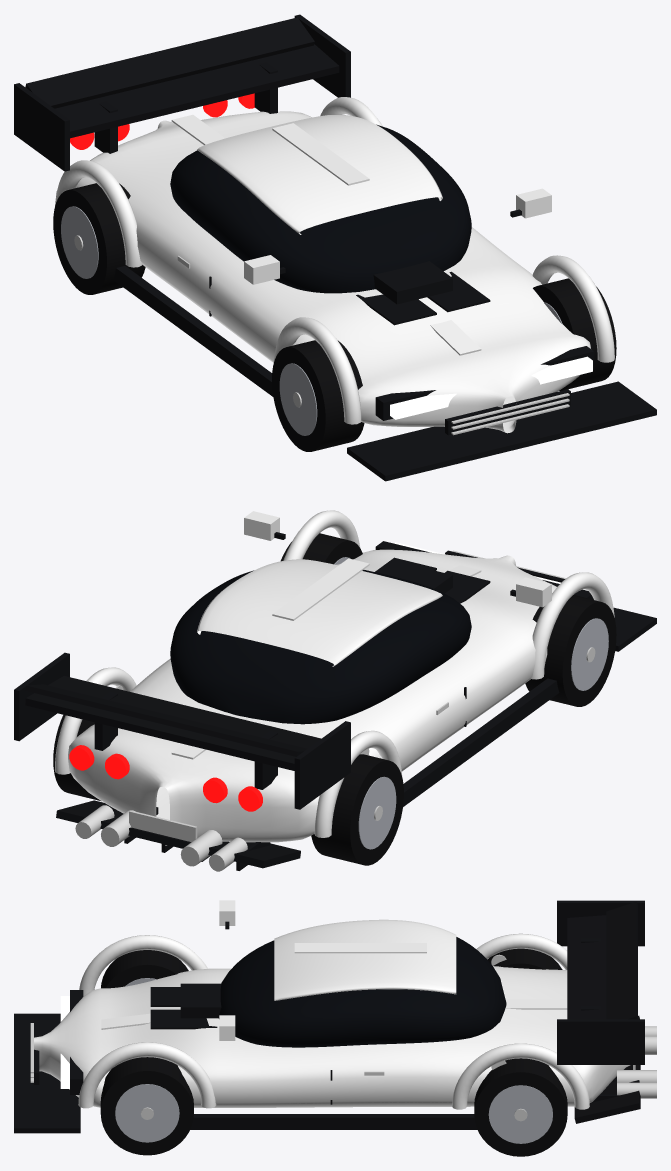
The model's file is car_turbo.glb.
The picture shows the model from 3 angles, top to bottom: view 1: azimuth 30°, elevation 25°; view 2: azimuth 150°, elevation 25°; view 3: azimuth 270°, elevation 25°; orthographic projection. The views are drawn at different scales.
Visible parts, largest first — view 1: body, cabin, roof, tire (×3), splitter, wing_flap, wing_main, rim (×2), skirtR, plate_end-1, flareR1.4, flareR-1.4 (+15 smaller); view 2: body, cabin, roof, tire (×4), wing_main, rim (×2), skirtR, plate_end-1, wing_flap, diffuser, flareR1.4, flareR-1.4 (+16 smaller); view 3: body, cabin, tire (×4), roof, rim (×2), splitter, skirtL, plate_end1, wing_main, wing_flap, flareL1.4, flareL-1.4 (+15 smaller).
Boxes of the visible parts, box(x1,y1,x2,y2) form: body: box(76, 111, 590, 433); cabin: box(170, 124, 471, 293); roof: box(197, 115, 442, 234); tire (×3): box(53, 183, 616, 451); splitter: box(347, 381, 656, 481); wing_flap: box(25, 17, 314, 108); wing_main: box(55, 44, 339, 138); rim (×2): box(61, 206, 317, 435); skirtR: box(113, 266, 273, 396); plate_end-1: box(14, 83, 69, 171); flareR1.4: box(273, 317, 361, 424); flareR-1.4: box(55, 160, 142, 267); body: box(68, 549, 556, 845); cabin: box(170, 570, 471, 724); roof: box(197, 559, 442, 666); tire (×4): box(53, 533, 616, 865); wing_main: box(25, 676, 320, 770); rim (×2): box(358, 618, 608, 849); skirtR: box(403, 678, 559, 806); plate_end-1: box(294, 721, 350, 809); wing_flap: box(25, 684, 307, 756); diffuser: box(56, 800, 300, 868); flareR1.4: box(530, 572, 614, 679); flareR-1.4: box(314, 730, 402, 837); body: box(34, 966, 630, 1107); cabin: box(219, 937, 506, 1047); tire (×4): box(100, 948, 567, 1156); roof: box(274, 919, 456, 1000); rim (×2): box(115, 1084, 552, 1143); splitter: box(14, 1013, 80, 1133); skirtL: box(190, 1114, 477, 1129); plate_end1: box(557, 1019, 644, 1064); wing_main: box(567, 915, 606, 1019); wing_flap: box(606, 901, 637, 1019); flareL1.4: box(78, 1042, 216, 1108); flareL-1.4: box(452, 1043, 589, 1109).
Bounding box in the file's own units: 2.26 × 1.21 × 4.82.
